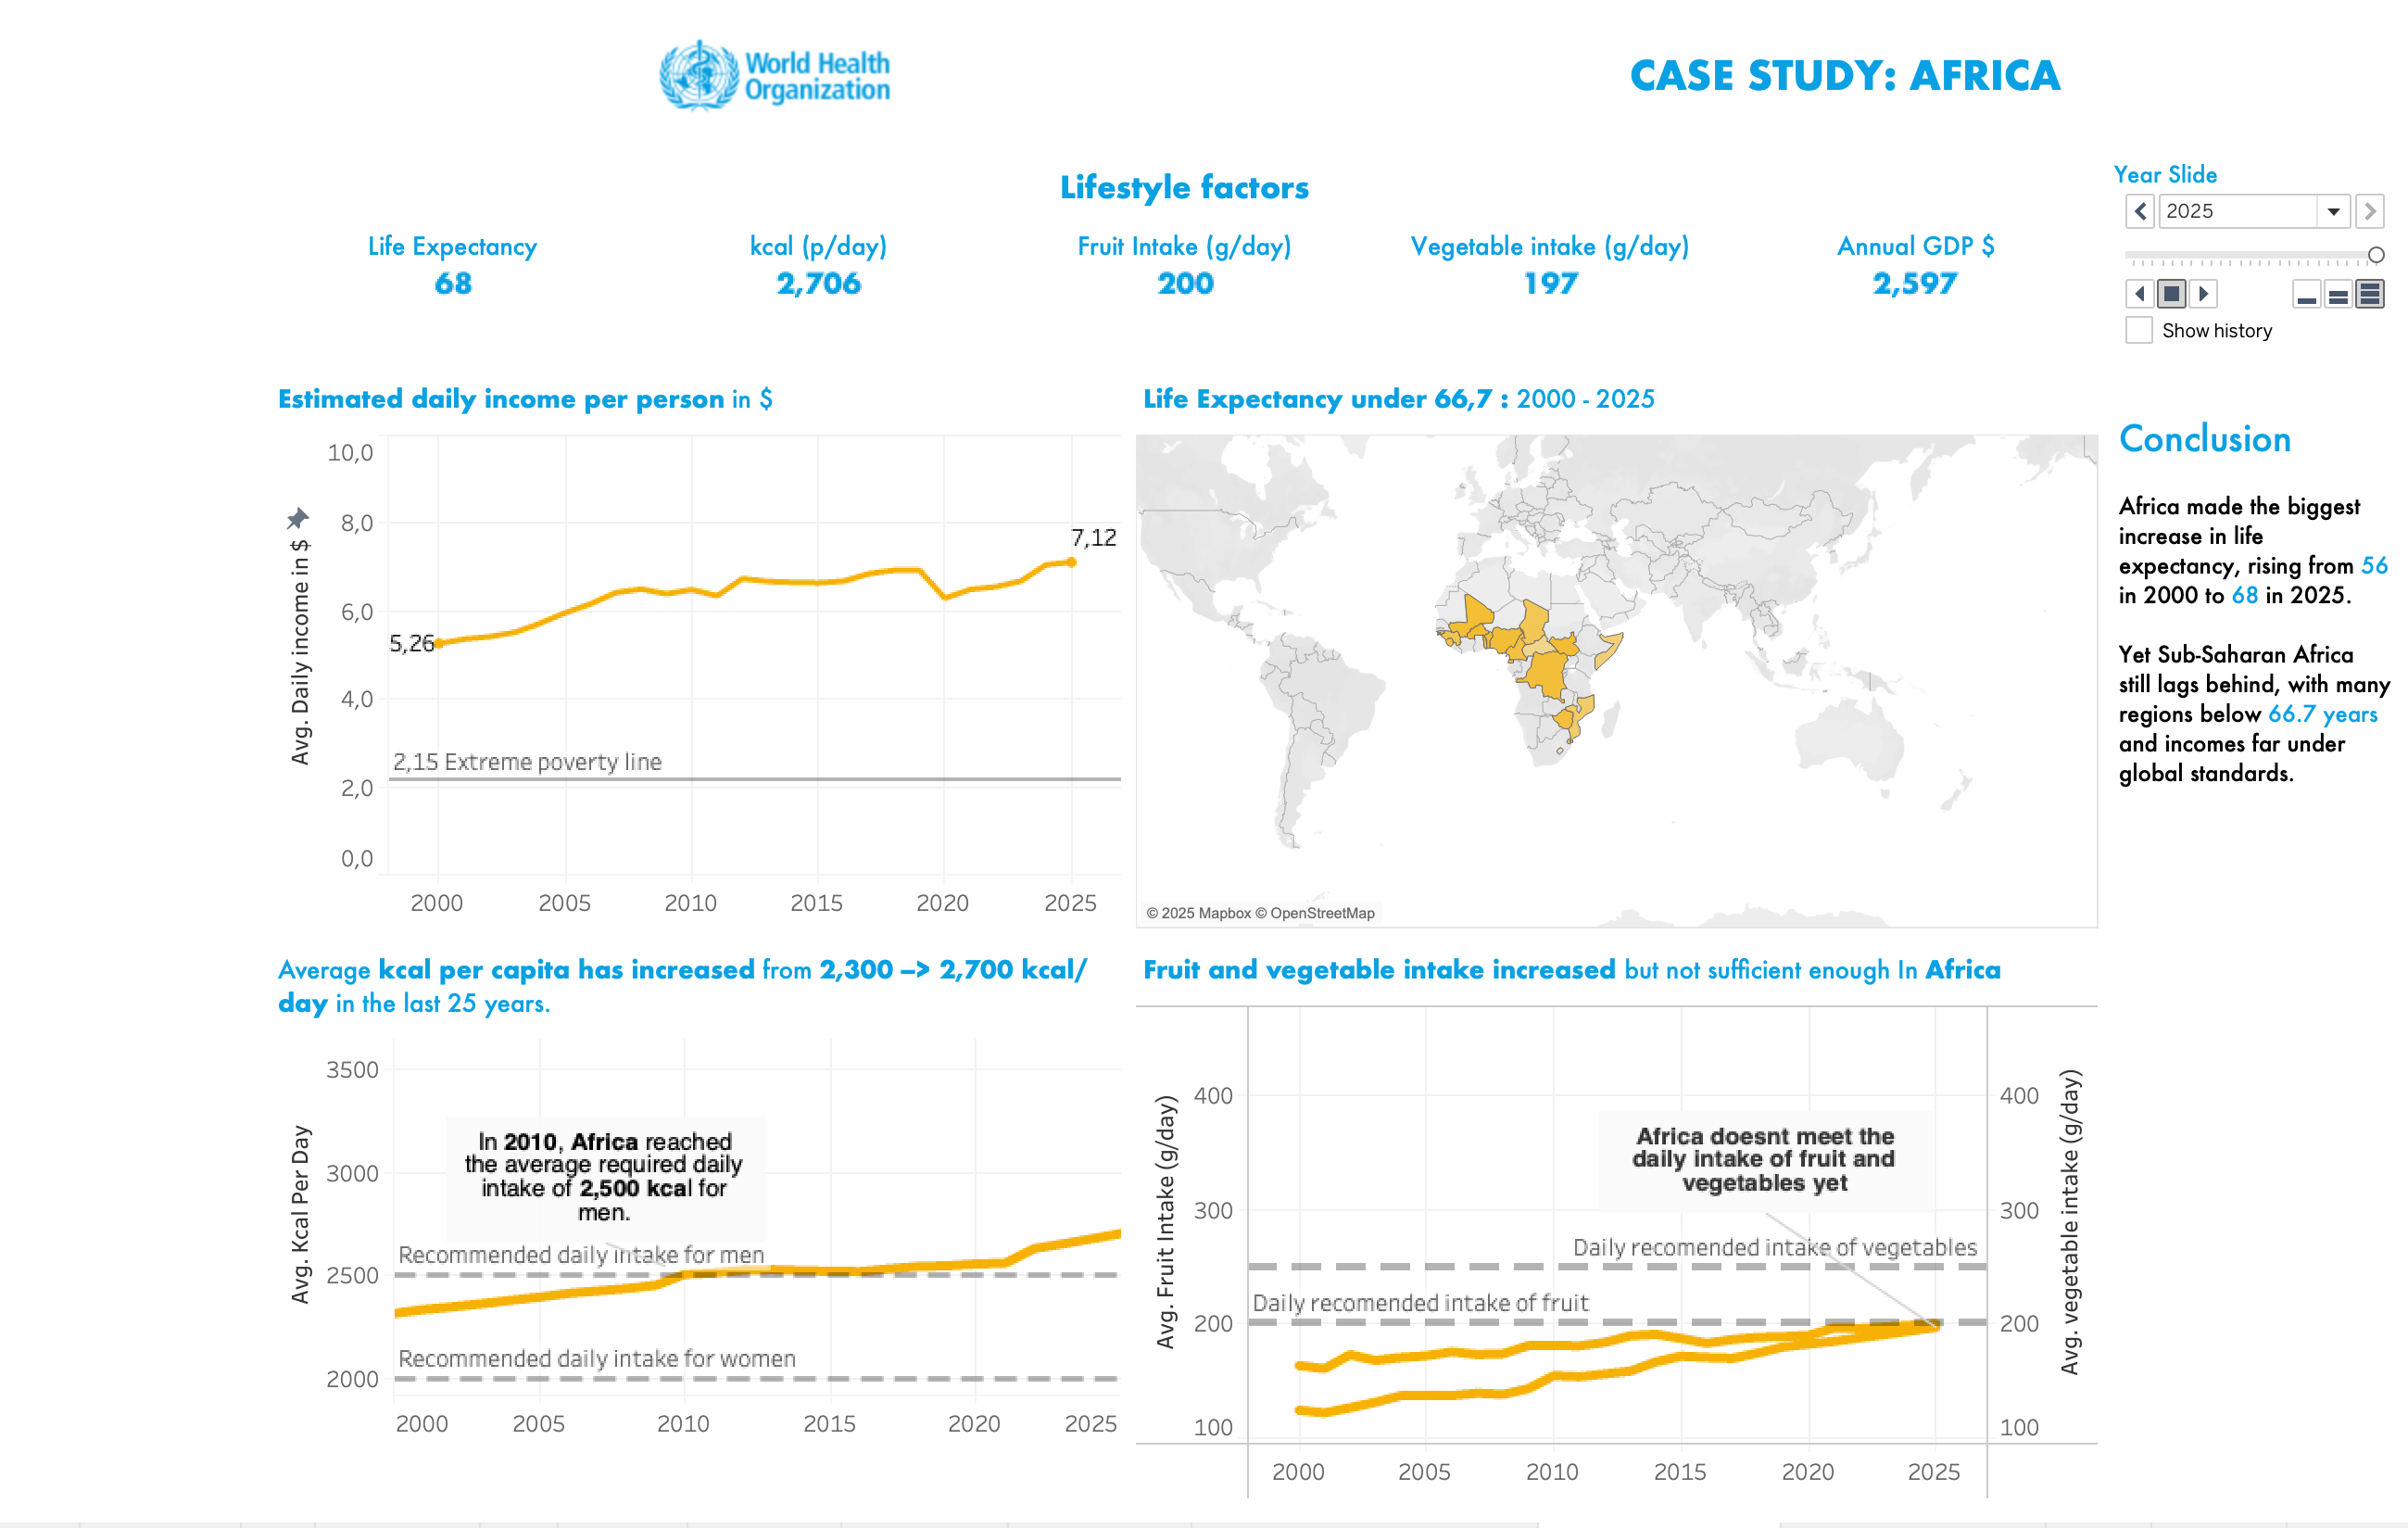

The dashboard page shown, as its layout file describes it:
{"tool":"tableau","page":{"name":"Dashboard Africa","canvas":[1000,1000],"units":"permille","ordinal":2},"visuals":[{"type":"image","box":[6.8,9.6,287.8,99.4]},{"type":"text","box":[294.6,9.6,698.6,99.4]},{"type":"worksheet","title":"KPI Africa","mark":"Automatic","box":[6.8,109,849.7,140.7]},{"type":"currpage","title":"Map Africa","box":[856.5,109,136.6,132.5]},{"type":"currpage","title":"KCal","box":[856.5,241.6,136.6,84.3]},{"type":"worksheet","title":"KCal","mark":"Automatic","rows":["kcal_per_day"],"cols":["year"],"box":[6.8,249.8,408.2,382.5]},{"type":"worksheet","title":"Map Africa","mark":"Multipolygon","box":[415,249.8,441.5,358]},{"type":"legend","title":"ECOnomy","param":"[federated.03ces6k0pas0ll14670pz1yx39q4].[none:continent_full:nk]","box":[856.5,325.9,136.6,174.7]},{"type":"worksheet","title":"ECOnomy","mark":"Automatic","rows":["Calculation_540150546905055241"],"cols":["year"],"box":[415,607.8,441.5,382.5]},{"type":"worksheet","title":"Fruit and Vegetables","mark":"Automatic","rows":["Calculation_5420011848565366801","Calculation_5420011848565534738"],"cols":["year"],"box":[6.8,632.3,408.2,358.1]}]}

Visuals, with their boxes on the dashboard's canvas, which has no fixed pixel size, in thousandths of its width and height (x1, y1, x2, y2). These are canvas units, not pixel positions in the 2408x1528 screenshot, which may show the page scaled, cropped or inside an application window:
image: [x1=7, y1=10, x2=295, y2=109]
text: [x1=295, y1=10, x2=993, y2=109]
"KPI Africa" worksheet: [x1=7, y1=109, x2=856, y2=250]
"Map Africa" currpage: [x1=856, y1=109, x2=993, y2=242]
"KCal" currpage: [x1=856, y1=242, x2=993, y2=326]
"KCal" worksheet: [x1=7, y1=250, x2=415, y2=632]
"Map Africa" worksheet (Multipolygon marks): [x1=415, y1=250, x2=856, y2=608]
"ECOnomy" legend: [x1=856, y1=326, x2=993, y2=501]
"ECOnomy" worksheet: [x1=415, y1=608, x2=856, y2=990]
"Fruit and Vegetables" worksheet: [x1=7, y1=632, x2=415, y2=990]
